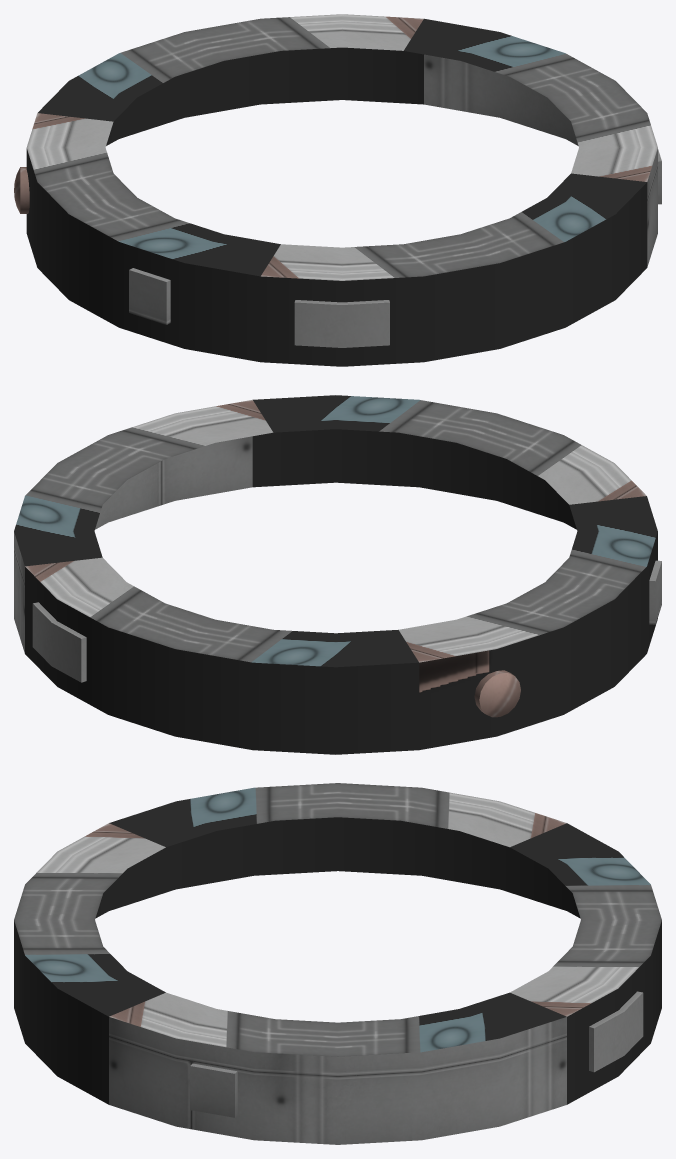
File: acamar_adapter_s2_s1p5_2.obj
3 views of the same model, one above another, from view 1: azimuth 30°, elevation 25°; view 2: azimuth 150°, elevation 25°; view 3: azimuth 270°, elevation 25° (orthographic). The views are drawn at different scales.
Visible parts, largest first — view 1: mesh2; view 2: mesh2; view 3: mesh2.
Boxes of the visible parts, x1,y1,x2,y2 form: mesh2: (14, 14, 661, 366); mesh2: (14, 395, 661, 754); mesh2: (14, 783, 661, 1144).
Bounding box in the file's own units: 2.5 × 0.375 × 2.5.
Materials: 1 (1 with a texture image).
